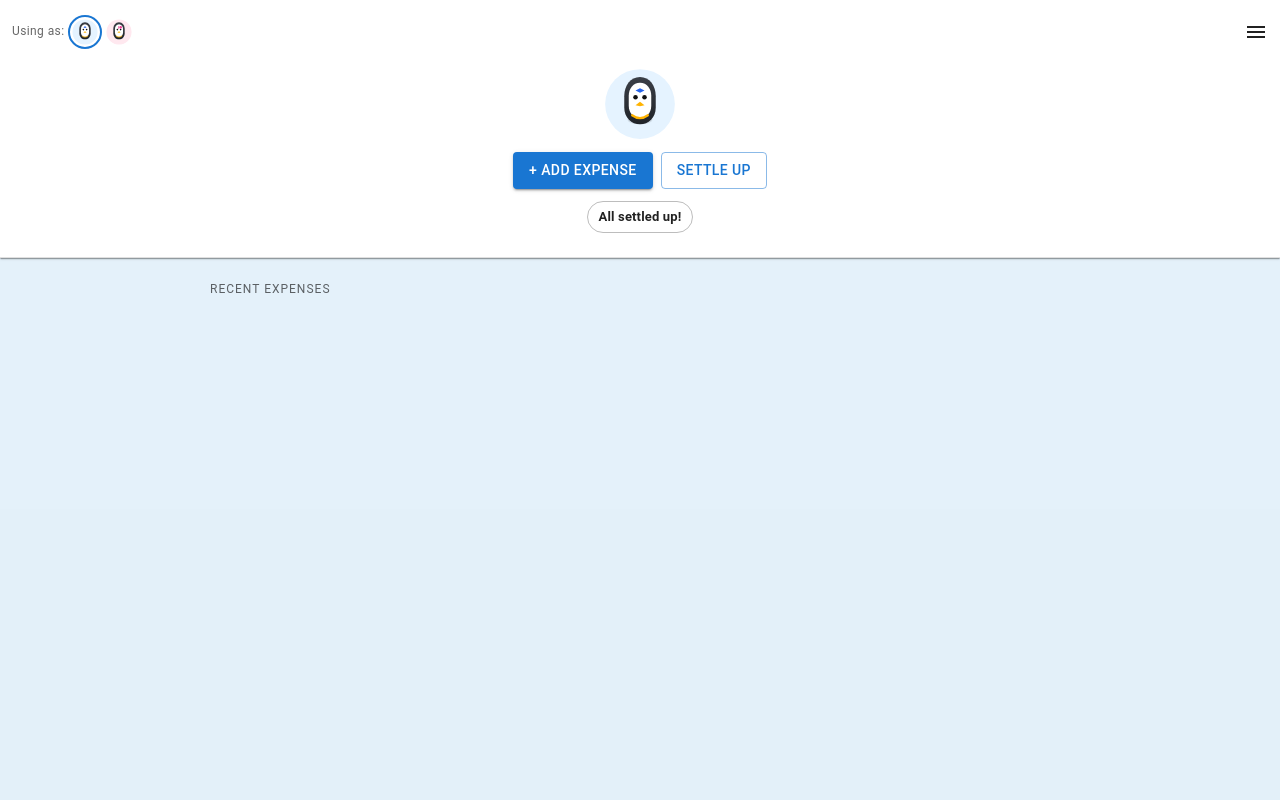
it: Add expense - other payer 100% › impacts balance and shows "you owe" (not "no balance impact")
// Open modal
Step 1. Click the button "+ Add expense" → (583, 170), box [513,152,653,188]
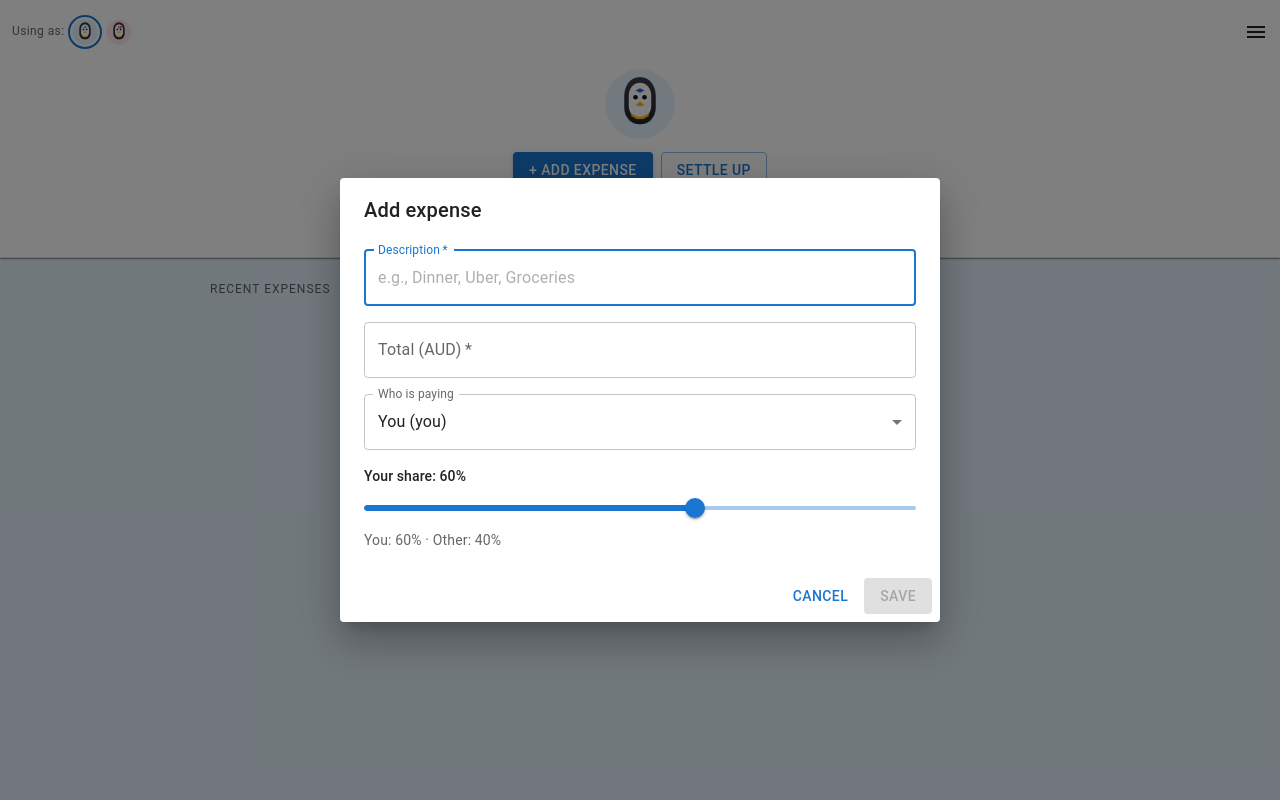
// Fill fields
Step 2. Type "Test dinner" into the field labelled "Description *" → (640, 278), box [364,250,916,306]
Step 3. Type "100" into the number field labelled "Total (AUD) *" → (640, 350), box [364,322,916,378]
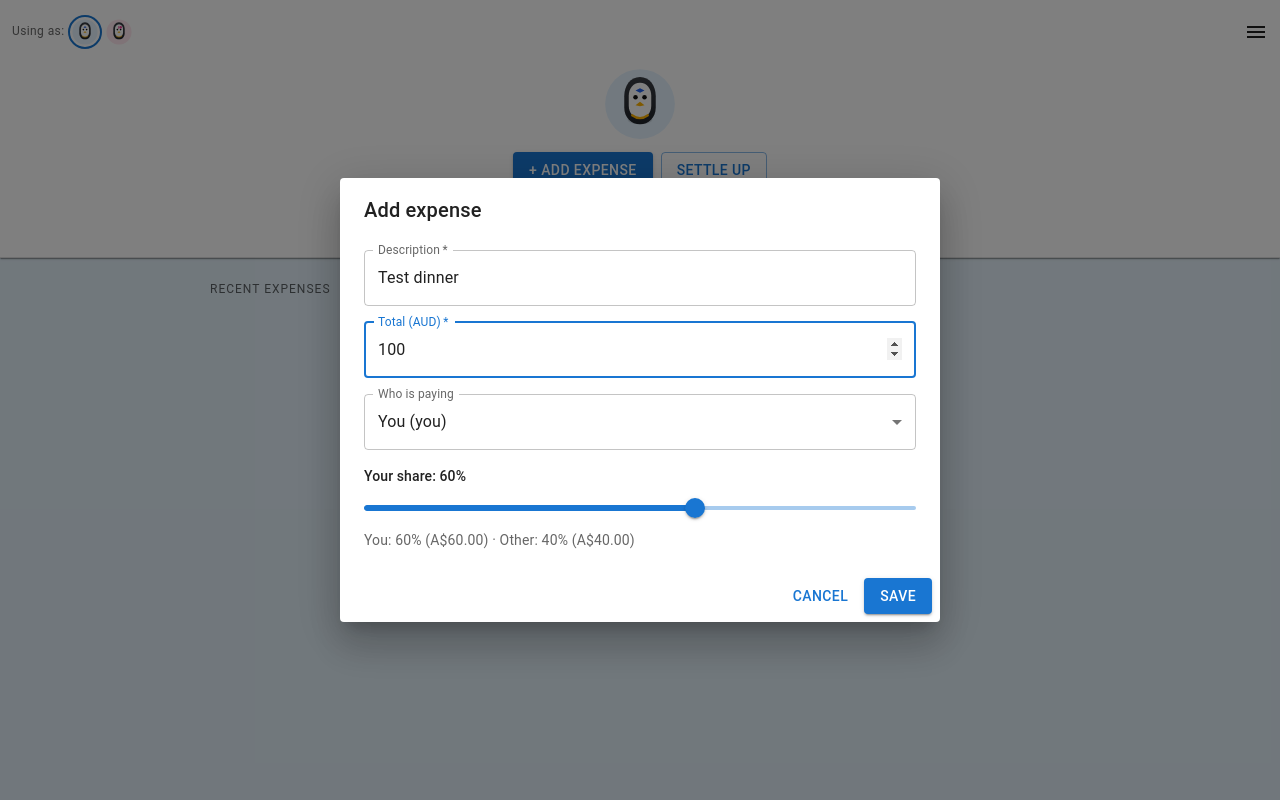
Step 4. Click the dropdown named "who is paying" → (412, 422), box [378,412,447,431]
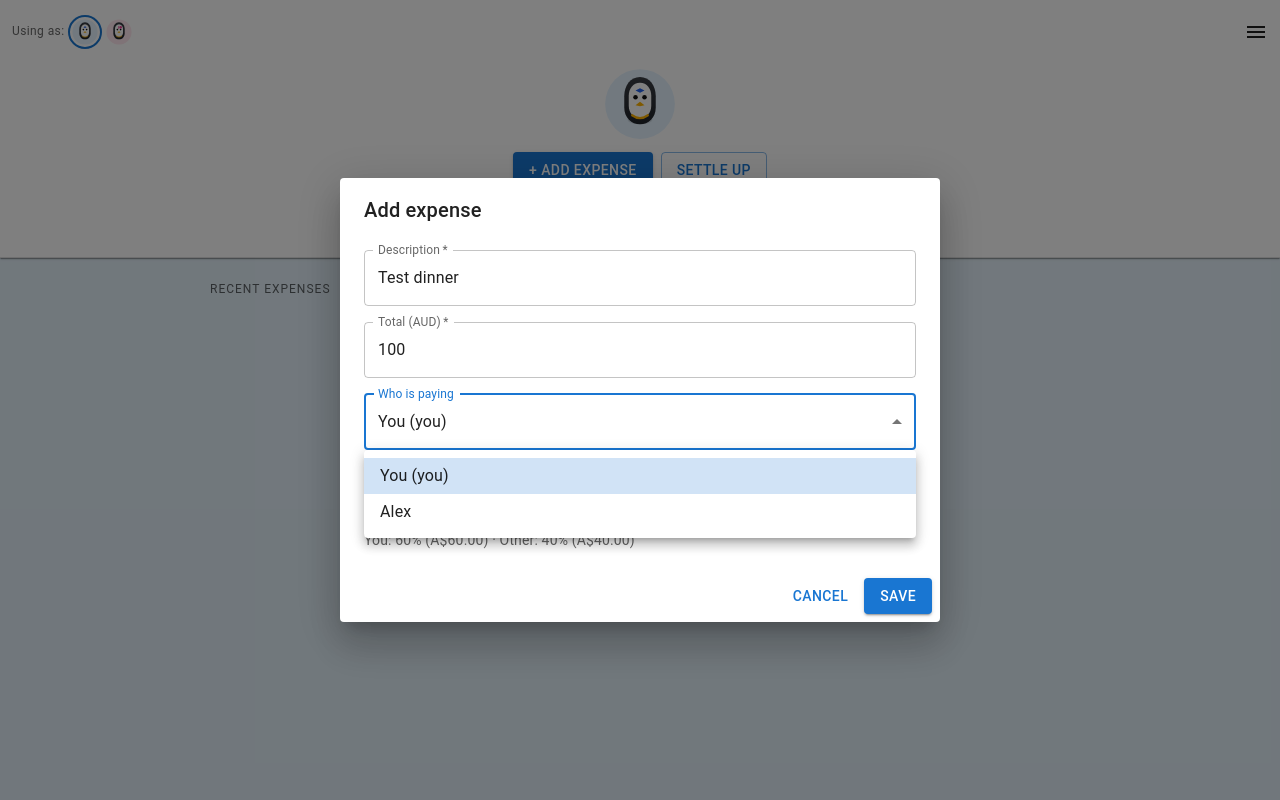
Step 5. Click the option "Alex" → (396, 512), box [380,502,411,521]
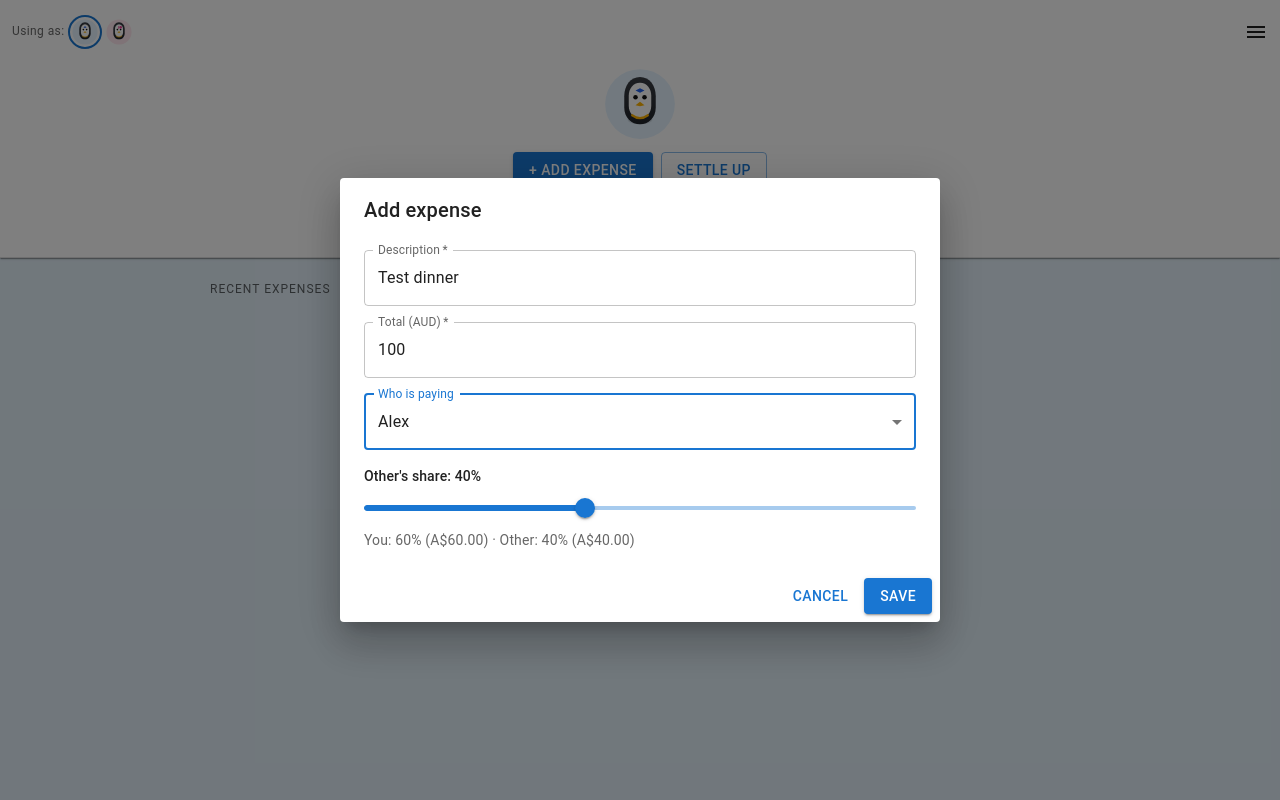
// Set slider (payer share) to 100%
Step 6. Press End in the slider, box [575,498,595,518]
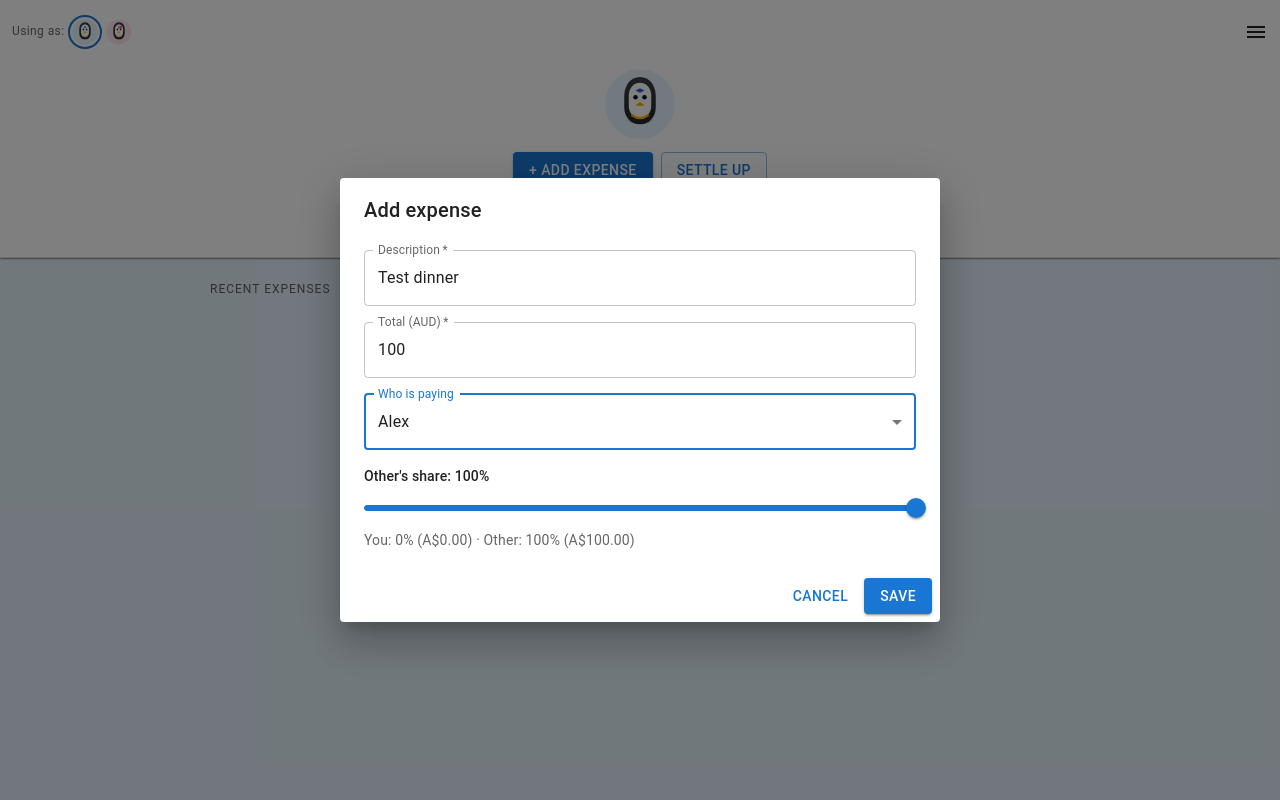
Step 7. Click the button "Save" → (898, 596), box [864,578,932,614]
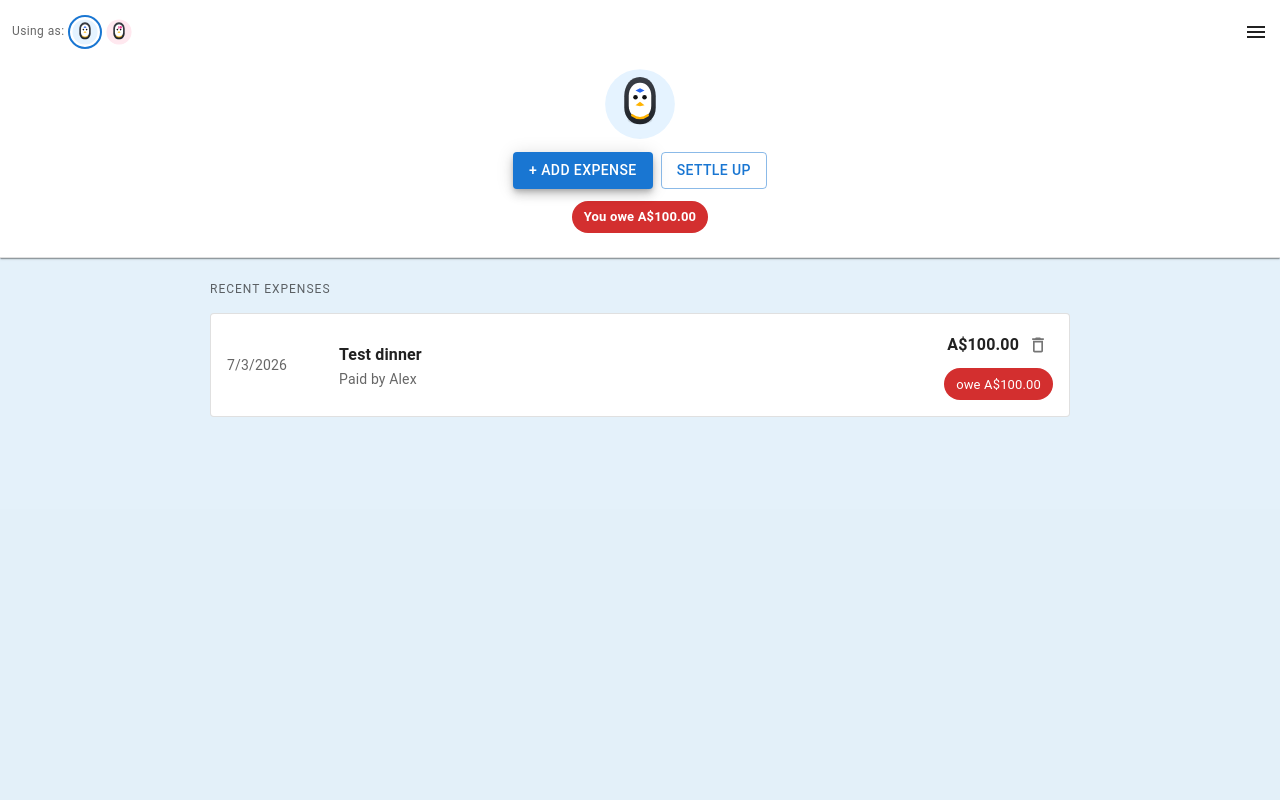
expect the text "You owe A$100.00" is shown: met, box [584,209,696,224]
